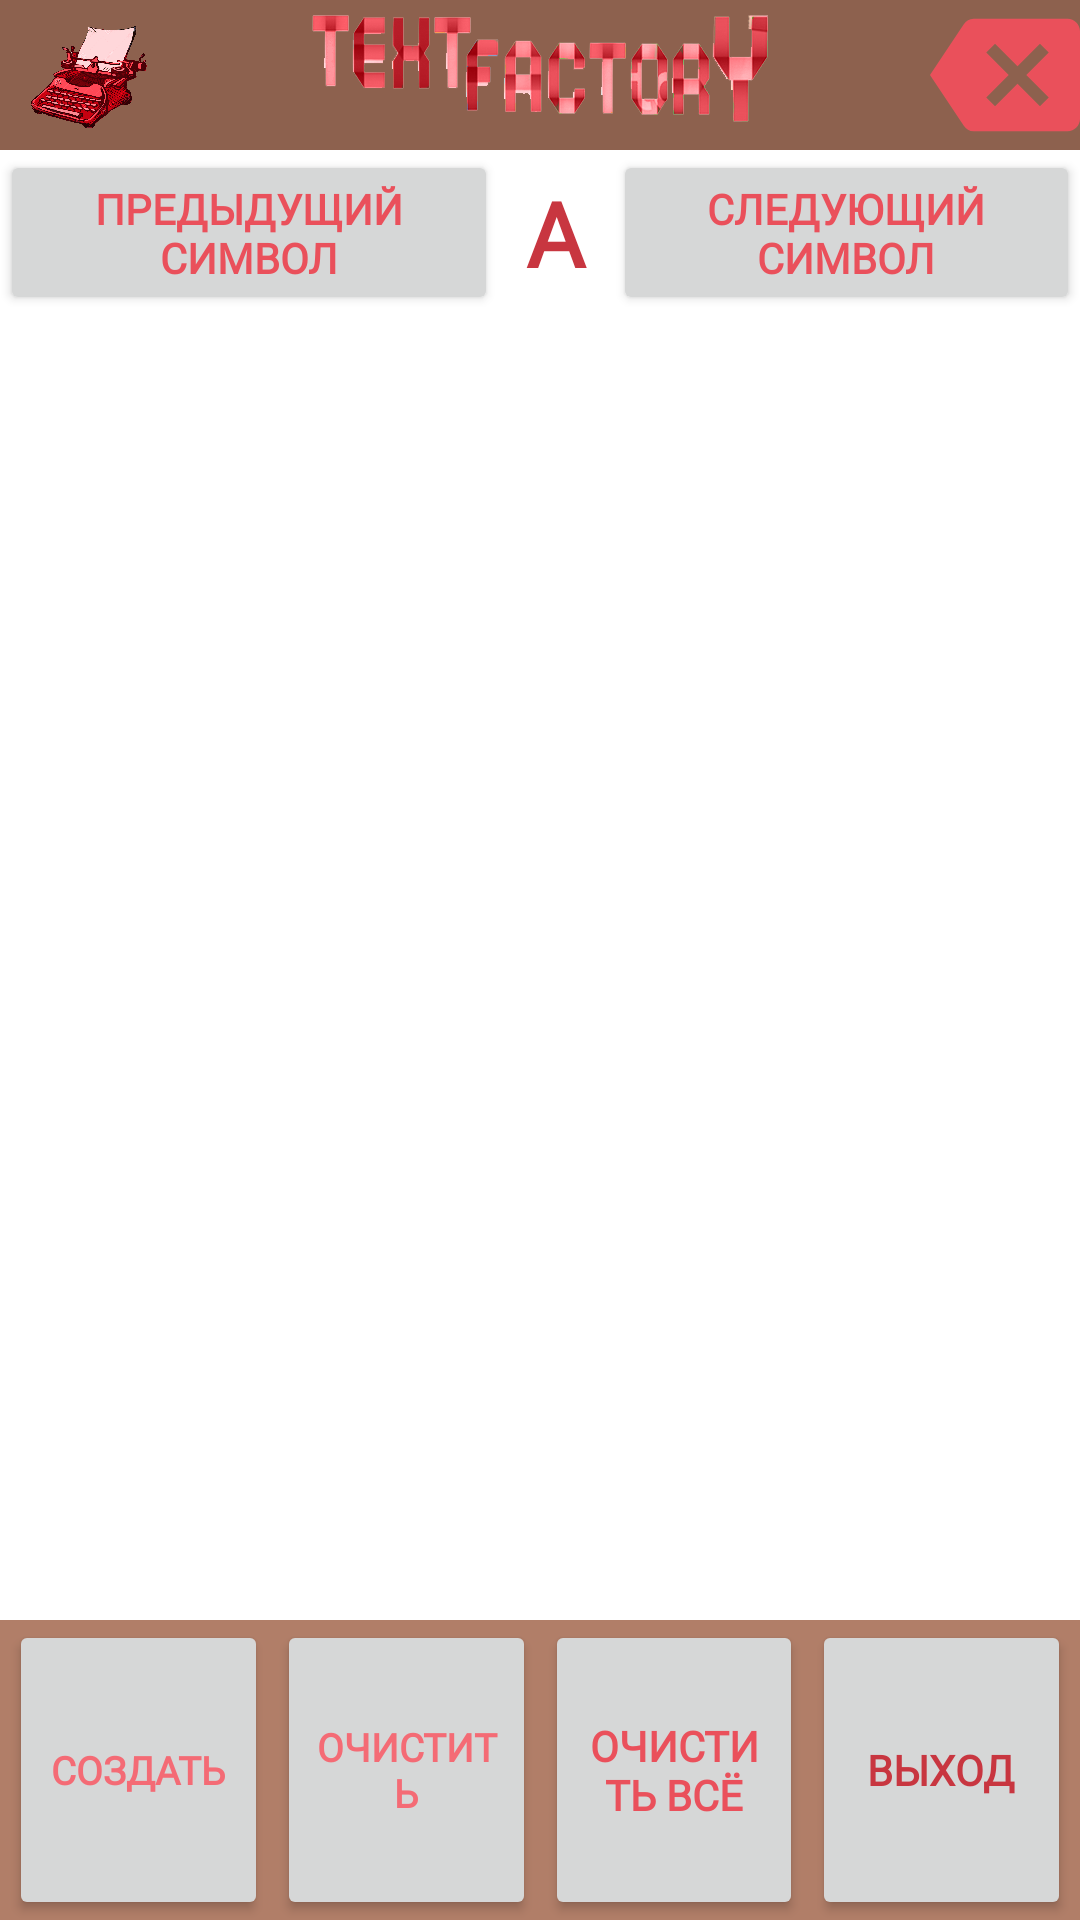

Where to tap for icons on this 1080w x 1920h app screen, as point (x, y):
backspace: point (1005, 75)
